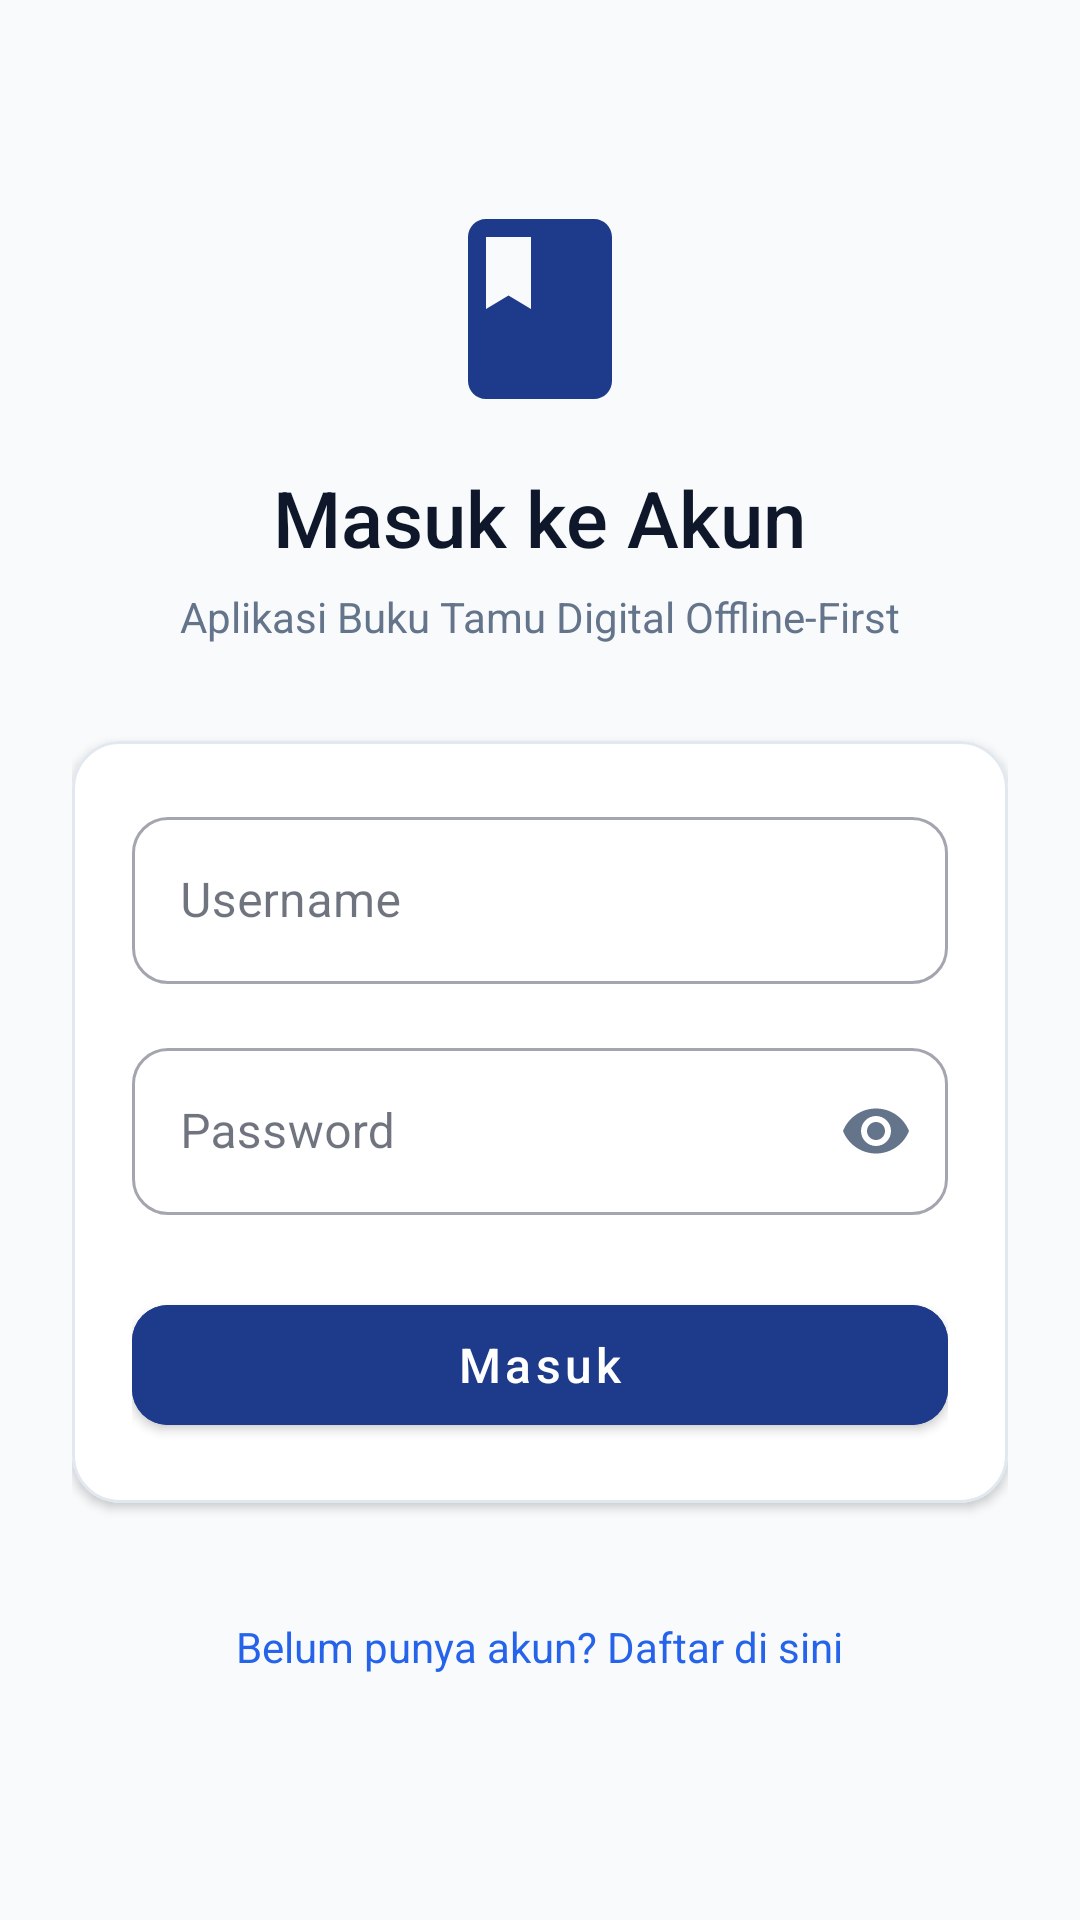

Where icons sit on this 1080 × 1920 app screen, as {"x1": x1, "y1": y1, "x2": x2, "y2": y2}:
book: {"x1": 468, "y1": 219, "x2": 612, "y2": 399}
